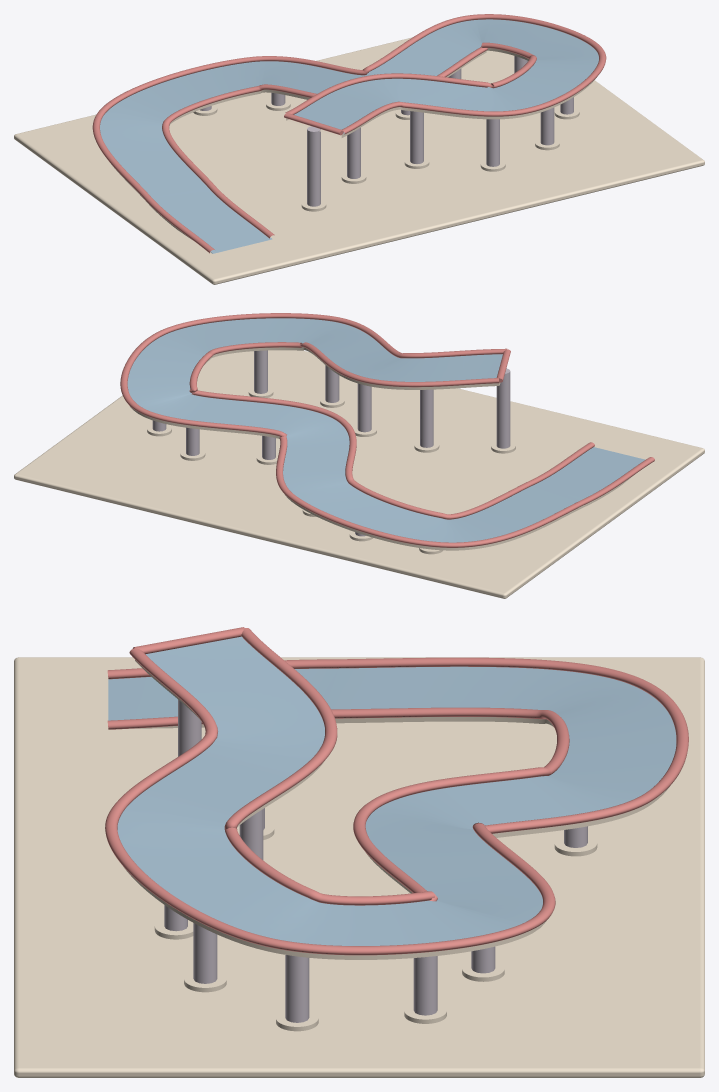
Rendered from coaster.glb.
3 renders of one model, top to bottom at view 1: azimuth 30°, elevation 25°; view 2: azimuth 150°, elevation 25°; view 3: azimuth 270°, elevation 25°, orthographic. The views are drawn at different scales.
Parts seen in each view (by area): view 1: grounded skating base, continuous track deck, soft skating edge (×2), rounded elevated support (×5), solid deck side (×2); view 2: grounded skating base, continuous track deck, soft skating edge (×2), rounded elevated support (×5), solid deck side (×2); view 3: grounded skating base, continuous track deck, soft skating edge (×2), rounded elevated support (×5), solid deck side (×2), upper end bumper.
Part boxes in pixels (box(x1,y1,x2,y2)): grounded skating base: box(14, 37, 704, 284); continuous track deck: box(100, 19, 598, 253); soft skating edge (×2): box(92, 14, 606, 253); rounded elevated support (×5): box(307, 107, 554, 206); solid deck side (×2): box(111, 48, 597, 253); grounded skating base: box(14, 350, 704, 598); continuous track deck: box(127, 318, 645, 542); soft skating edge (×2): box(120, 313, 654, 547); rounded elevated support (×5): box(254, 350, 510, 448); solid deck side (×2): box(130, 347, 633, 550); grounded skating base: box(14, 657, 704, 1077); continuous track deck: box(108, 636, 676, 945); soft skating edge (×2): box(105, 628, 688, 955); rounded elevated support (×5): box(178, 699, 437, 1022); solid deck side (×2): box(124, 660, 669, 959); upper end bumper: box(132, 627, 244, 654).
Size of the model in its own units: 23.4 by 4.08 by 16.5.
